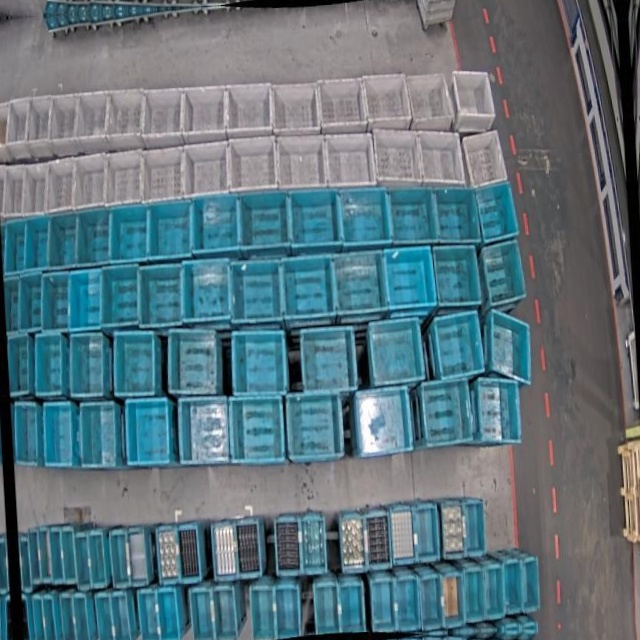Box: (366, 316, 428, 388), (228, 326, 289, 396), (228, 393, 286, 465), (166, 326, 222, 400), (355, 387, 415, 456), (300, 325, 359, 395), (286, 392, 345, 461), (418, 374, 473, 448), (431, 311, 487, 382), (487, 306, 534, 390), (472, 375, 525, 447), (432, 240, 485, 312), (332, 249, 388, 317), (382, 245, 439, 311), (227, 259, 285, 323), (237, 188, 292, 255), (178, 396, 231, 465), (280, 256, 337, 320), (287, 186, 343, 250), (180, 257, 231, 325), (431, 184, 484, 249), (415, 129, 468, 194), (479, 239, 528, 309), (111, 329, 160, 398), (338, 185, 391, 248), (137, 262, 187, 328), (373, 126, 423, 192), (124, 397, 171, 467), (190, 194, 242, 257), (386, 185, 438, 248), (361, 72, 413, 133), (406, 69, 456, 132), (323, 133, 377, 191), (226, 134, 278, 194), (474, 181, 521, 246), (145, 197, 193, 260), (98, 264, 143, 331), (318, 75, 368, 135), (461, 129, 510, 190), (271, 77, 322, 135), (276, 132, 326, 190), (181, 83, 229, 143), (182, 141, 229, 201), (79, 403, 120, 470), (224, 79, 273, 135), (140, 86, 185, 146), (104, 87, 146, 151), (453, 70, 495, 133), (68, 331, 108, 397), (141, 145, 185, 203), (103, 152, 147, 207), (66, 270, 104, 333), (69, 154, 111, 209), (109, 205, 150, 261), (33, 332, 67, 398), (74, 208, 113, 265), (43, 402, 76, 467), (47, 95, 81, 157), (75, 91, 109, 153), (12, 401, 42, 469), (45, 211, 80, 268), (42, 158, 77, 215), (22, 95, 53, 158), (339, 510, 368, 574), (39, 272, 71, 330), (20, 212, 52, 270), (413, 501, 441, 566), (438, 494, 466, 559), (210, 522, 239, 582), (15, 274, 45, 332), (4, 98, 32, 160), (234, 517, 263, 576), (275, 514, 302, 577), (369, 577, 398, 635), (175, 521, 202, 583), (301, 514, 328, 575), (1, 163, 30, 219), (461, 498, 487, 560), (7, 332, 32, 396), (154, 524, 180, 585), (367, 510, 393, 571), (390, 504, 416, 565), (210, 586, 239, 640), (312, 582, 342, 634), (20, 162, 50, 214), (395, 575, 421, 634), (109, 528, 133, 591), (274, 583, 301, 638), (249, 586, 276, 640), (440, 573, 466, 628), (419, 575, 444, 631), (128, 526, 151, 586), (2, 220, 27, 275), (189, 589, 215, 640), (340, 581, 365, 634), (462, 568, 486, 623), (155, 589, 180, 640), (74, 529, 94, 592), (137, 589, 161, 640), (522, 556, 543, 613), (60, 524, 79, 585), (502, 558, 523, 613), (484, 565, 505, 619), (3, 277, 22, 335), (94, 593, 117, 640), (90, 531, 108, 589), (18, 532, 35, 593), (110, 591, 131, 640), (39, 525, 55, 586), (71, 592, 91, 640), (59, 593, 79, 640), (50, 525, 65, 586), (29, 528, 44, 581), (42, 595, 59, 640), (32, 594, 48, 640), (0, 102, 12, 163), (21, 594, 33, 640)
